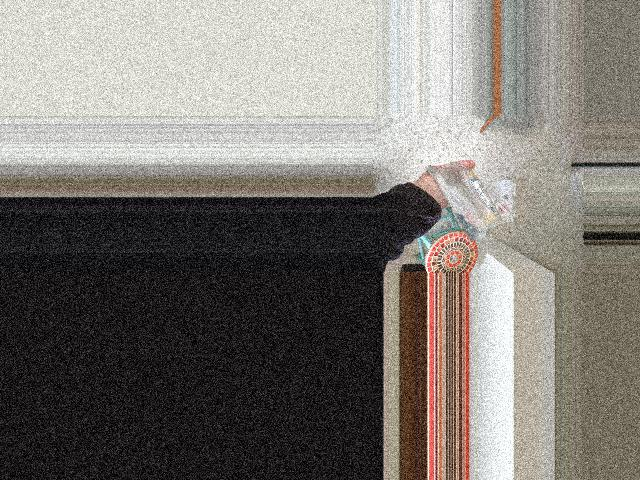cheese: (421, 154, 524, 263)
